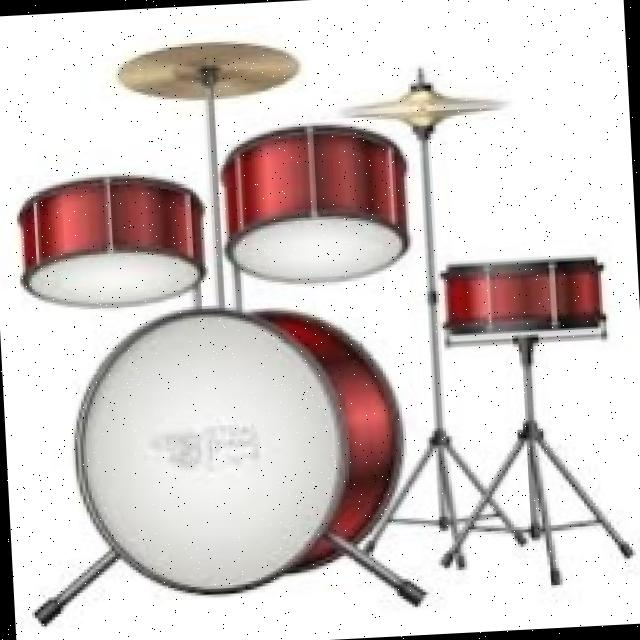drums: (6, 19, 634, 614)
